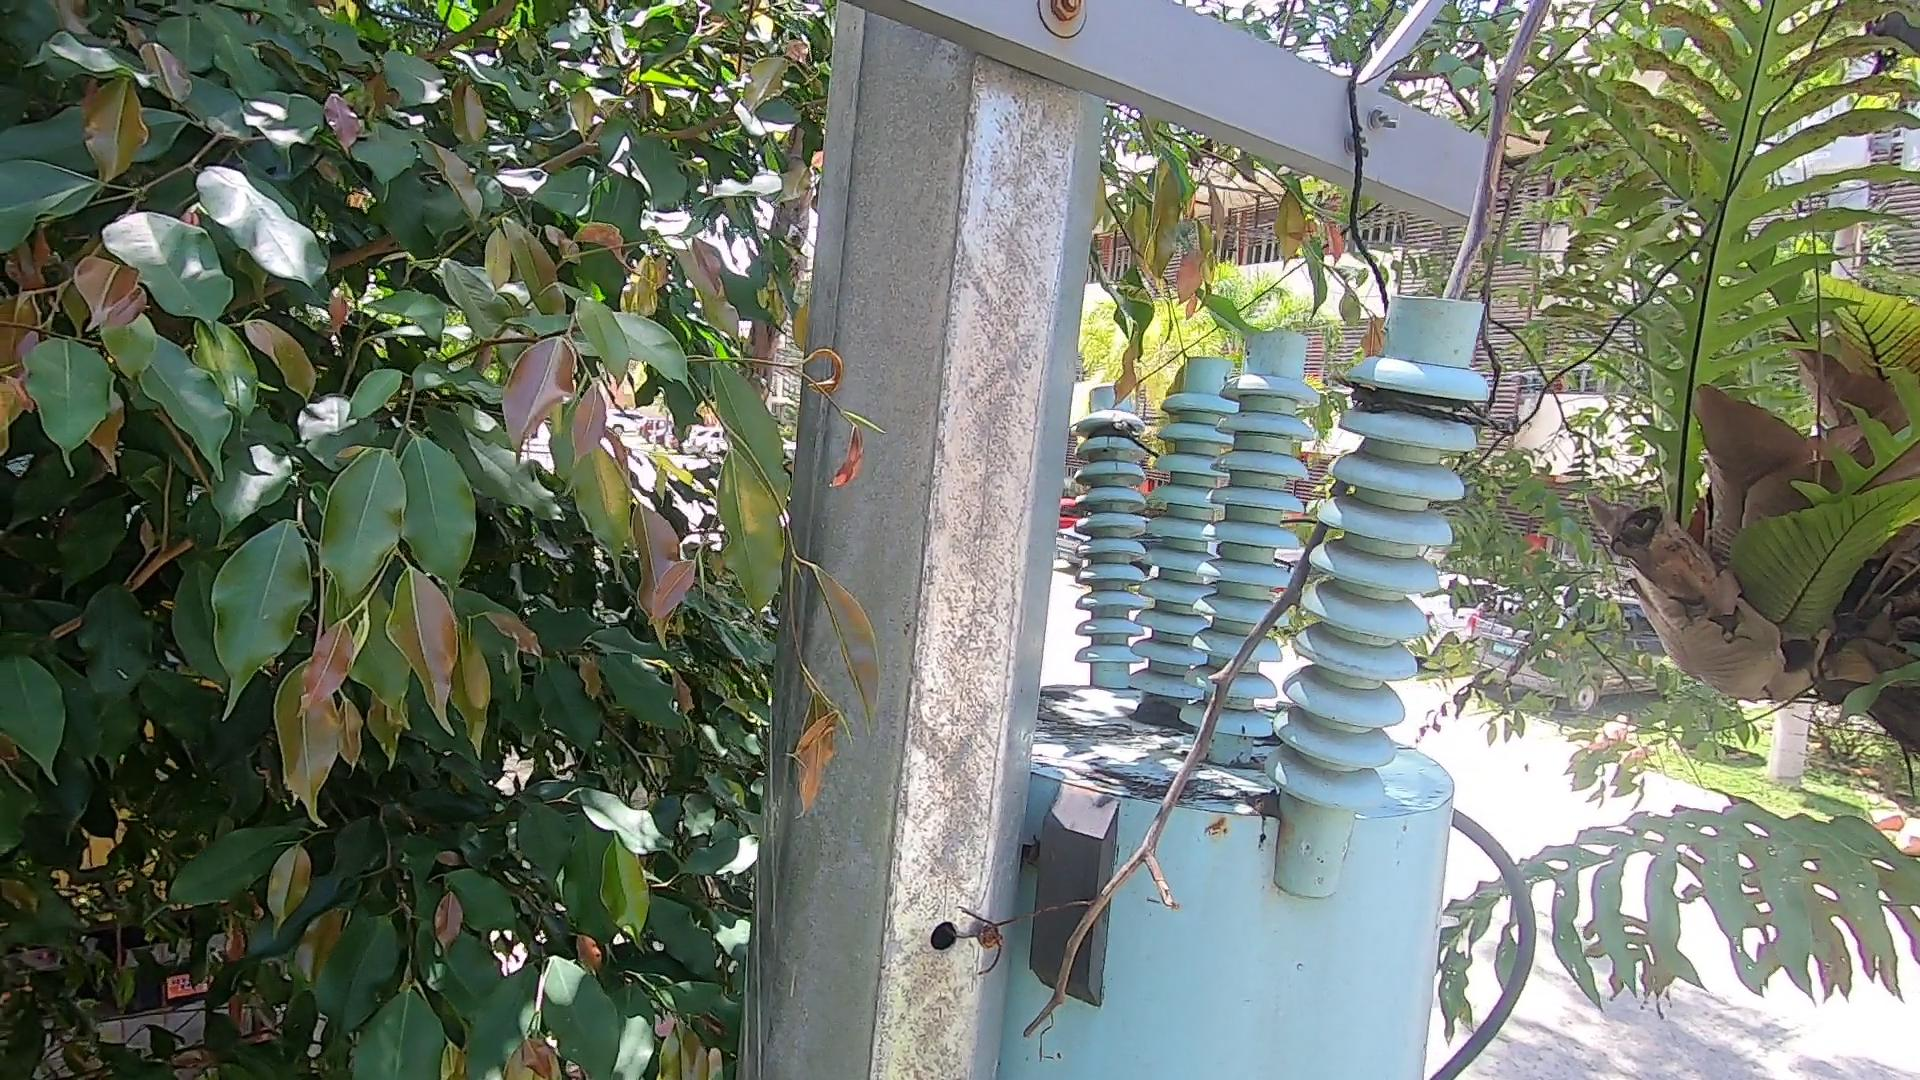branch with leaves: (1087, 194, 1379, 386)
leaf: (1129, 700, 1195, 741), (1238, 791, 1302, 829)
tree branch: (1015, 3, 1633, 1033)
